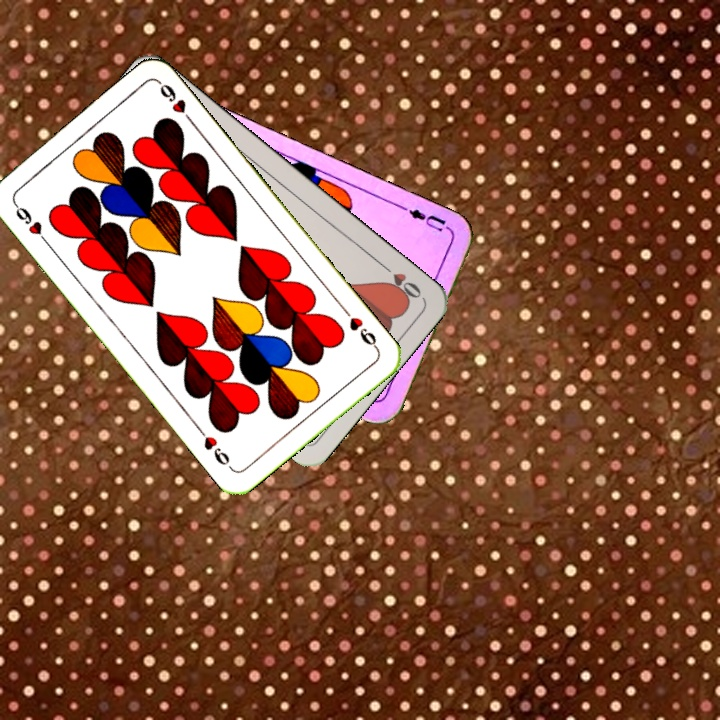EU: (398, 203, 454, 235)
H9: (338, 304, 382, 353), (9, 198, 52, 248)
HO: (375, 258, 424, 304)
